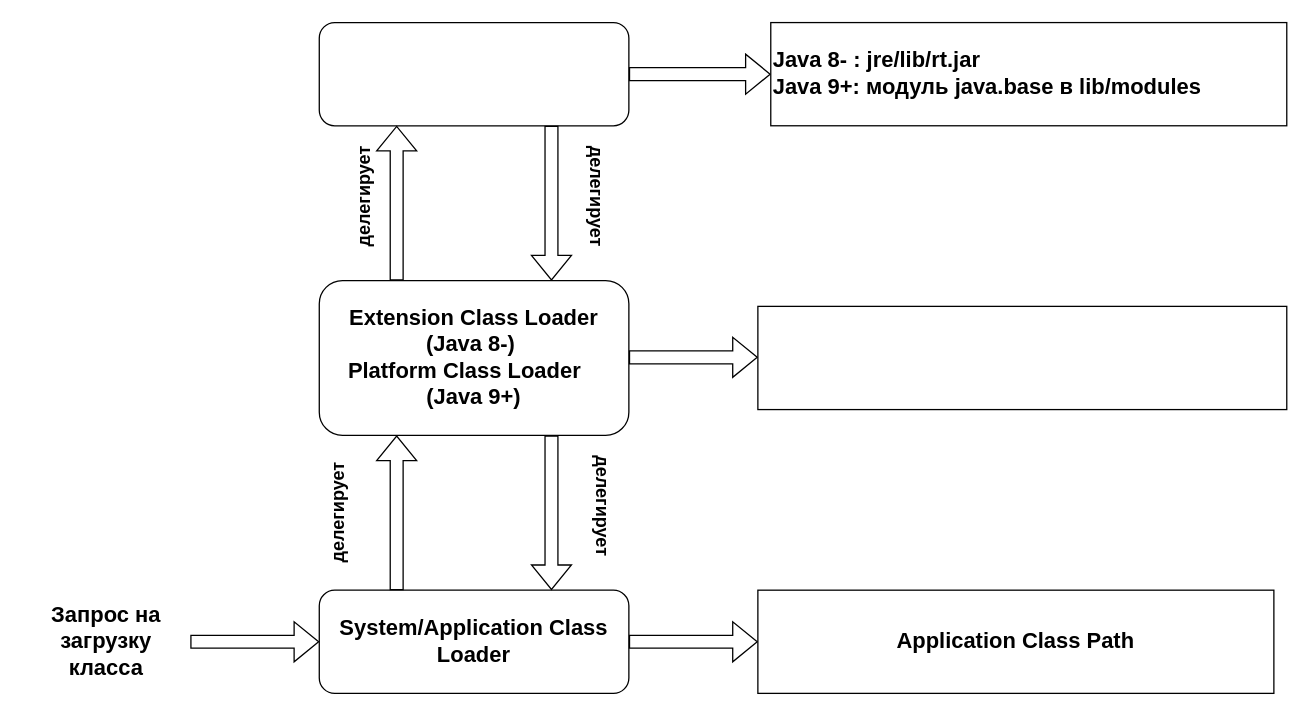
This 1309x716 diagram has some shape labels left out. Each missing label, with the box of its shape:
Bootstrap Class Loader: (318, 21, 629, 126)
Java 8- : jre /lib/ext Java 9+: lib/modules за исключением java.base: (757, 305, 1287, 410)
